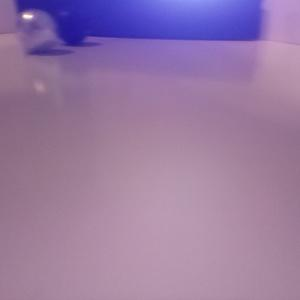alive_ball: (14, 9, 57, 52)
dead_ball: (52, 7, 87, 44)
